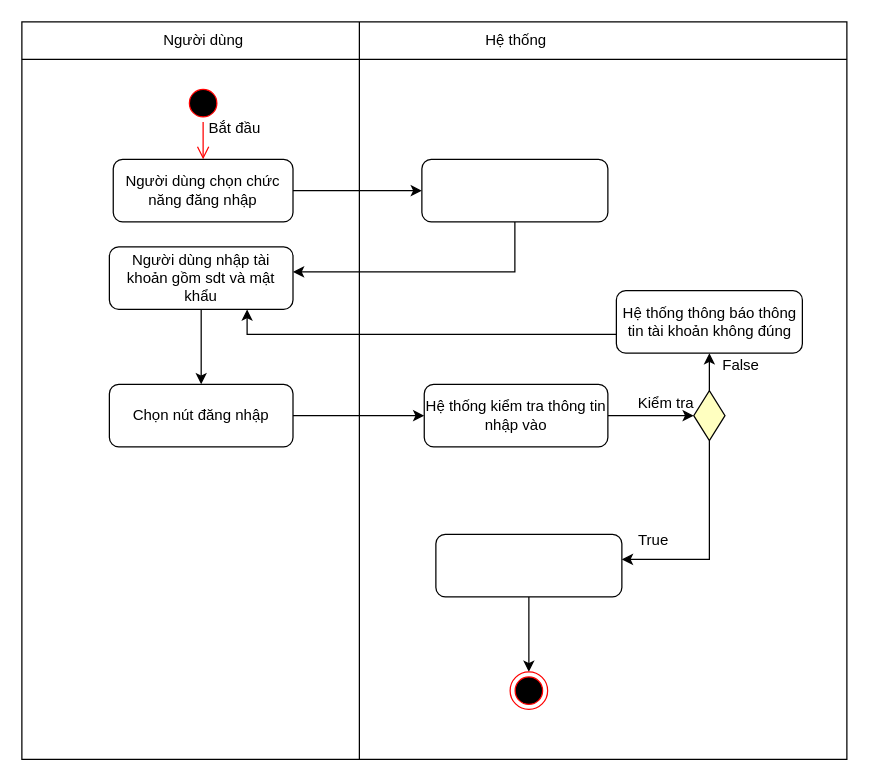
Some shapes in this 869 by 781 pixel diagram are drawn without their labels. Here are the shapes that lost their labels. From the top down, the centre of each, then its label:
At point (514, 190): "Hệ thống hiển thị giao diện nhập thông tin tài khoản".
At point (528, 565): "Hệ thống thông báo đăng nhập thành công".
